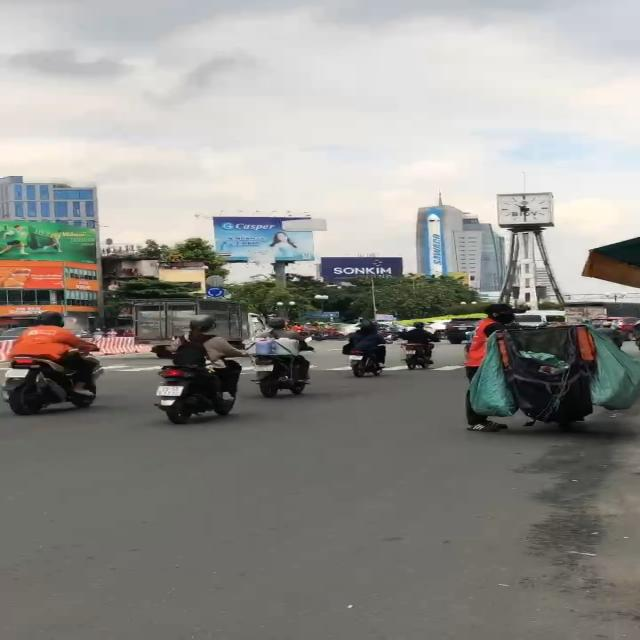Bien bao noi giao nhau chay theo vong xuyen: (204, 286, 228, 298)
